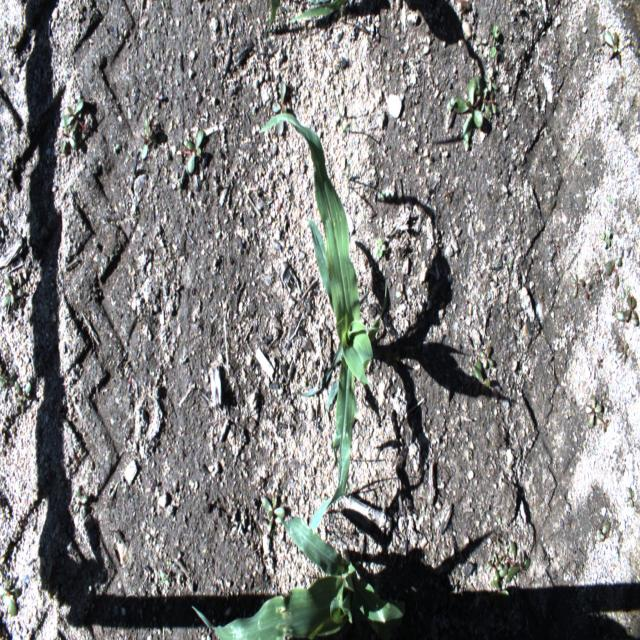crop: (263, 111, 387, 530), (192, 517, 404, 639), (287, 0, 346, 24), (267, 0, 281, 33)
weed: (490, 540, 531, 604), (450, 76, 485, 140), (183, 127, 206, 176), (0, 575, 23, 618), (260, 496, 287, 532), (59, 93, 86, 129), (472, 359, 492, 401), (1, 273, 22, 310), (583, 393, 603, 430), (478, 86, 498, 118), (620, 294, 638, 328), (605, 258, 625, 288), (14, 380, 32, 412), (139, 114, 151, 160), (59, 128, 77, 153), (478, 342, 494, 370), (484, 65, 499, 94), (488, 24, 500, 58), (604, 29, 619, 56), (571, 270, 585, 298), (0, 371, 15, 397), (376, 236, 387, 259), (600, 230, 611, 249)
